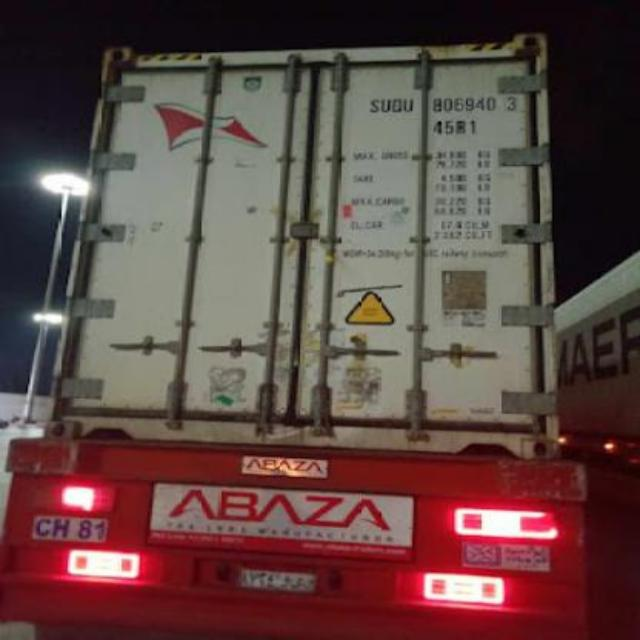0: (486, 96, 496, 110), (442, 97, 450, 113)
3: (504, 96, 516, 112)
4: (476, 96, 486, 114)
6: (452, 94, 464, 114)
8: (430, 97, 442, 113)
9: (464, 94, 476, 114)
D: (390, 97, 402, 115)
S: (370, 96, 378, 114)
U: (378, 94, 392, 116), (402, 96, 416, 114)
